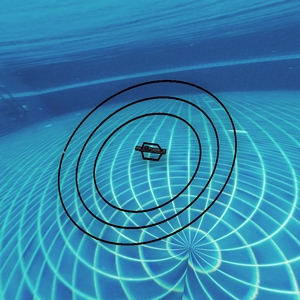circle: (54, 62, 232, 248)
